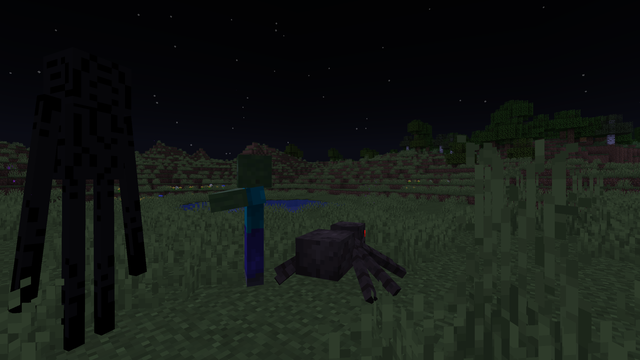araignees: (280, 215, 397, 306)
endermens: (44, 31, 133, 358)
zombies: (226, 157, 279, 290)
